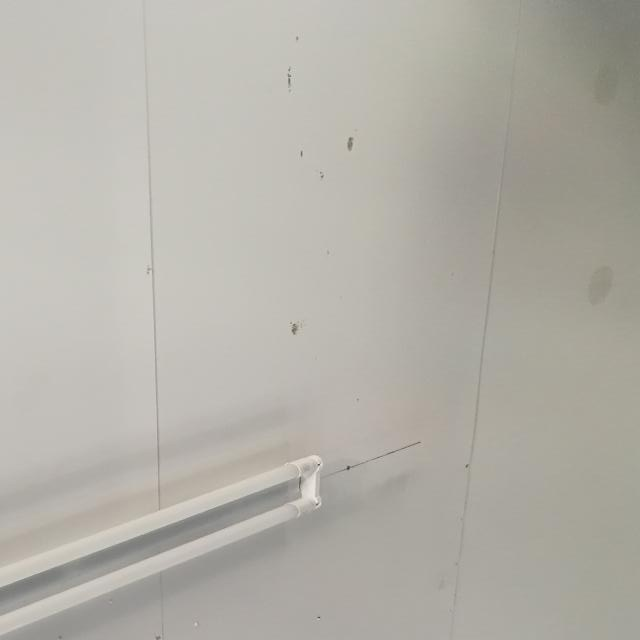fluorescent tube: (0, 443, 336, 640)
